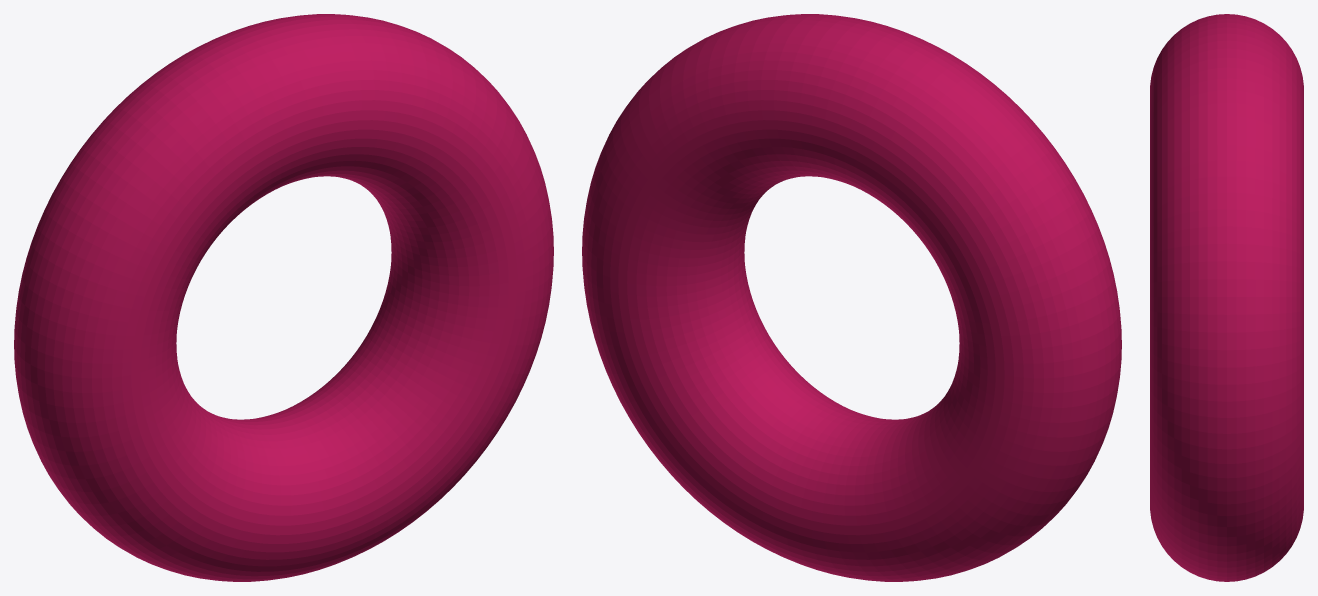
The picture shows the model from 3 angles, left to right: view 1: azimuth 30°, elevation 25°; view 2: azimuth 150°, elevation 25°; view 3: azimuth 270°, elevation 25°; orthographic projection. The views are drawn at different scales.
Visible parts, largest first — view 1: world; view 2: world; view 3: world.
Boxes of the visible parts, bbox=[...] form: world: bbox=[14, 14, 553, 581]; world: bbox=[582, 14, 1121, 581]; world: bbox=[1150, 14, 1303, 581].
Bounding box in the file's own units: 20.13 × 20.13 × 5.46.
